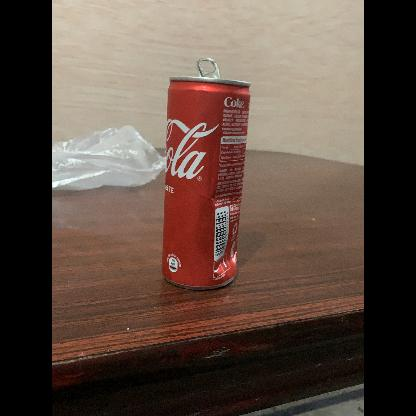Dent_Can: (207, 240, 236, 278), (204, 182, 241, 210)
Lid_Open: (190, 52, 226, 84)
Tin_Can: (154, 54, 252, 292)
